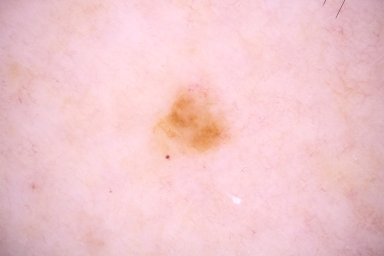melanoma: (157, 90, 226, 149)
